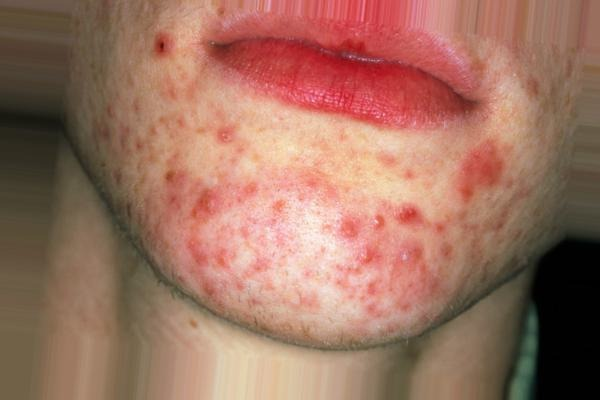Acne: (88, 35, 499, 323)
